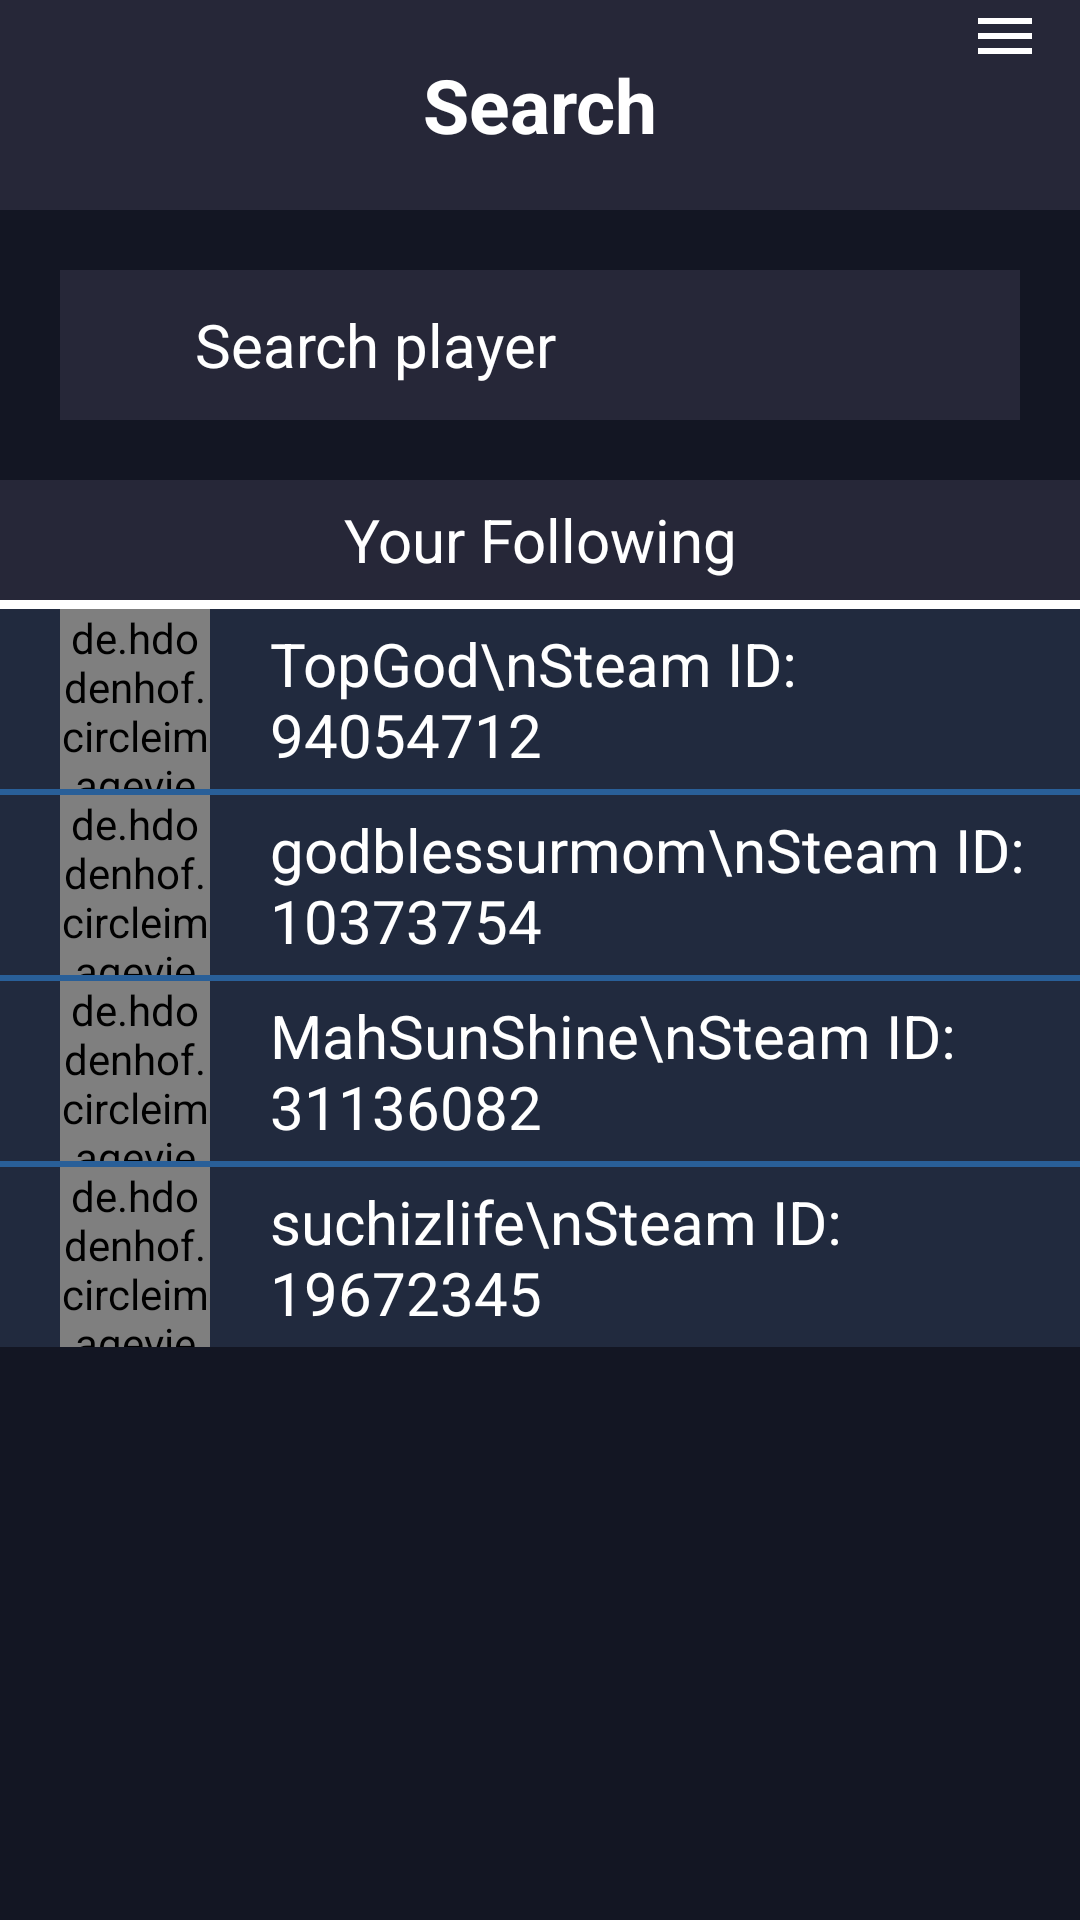

Icon click points for this 1080×1920 phone screenshot, format (x=x, y=y):
option: (x=1005, y=36)
